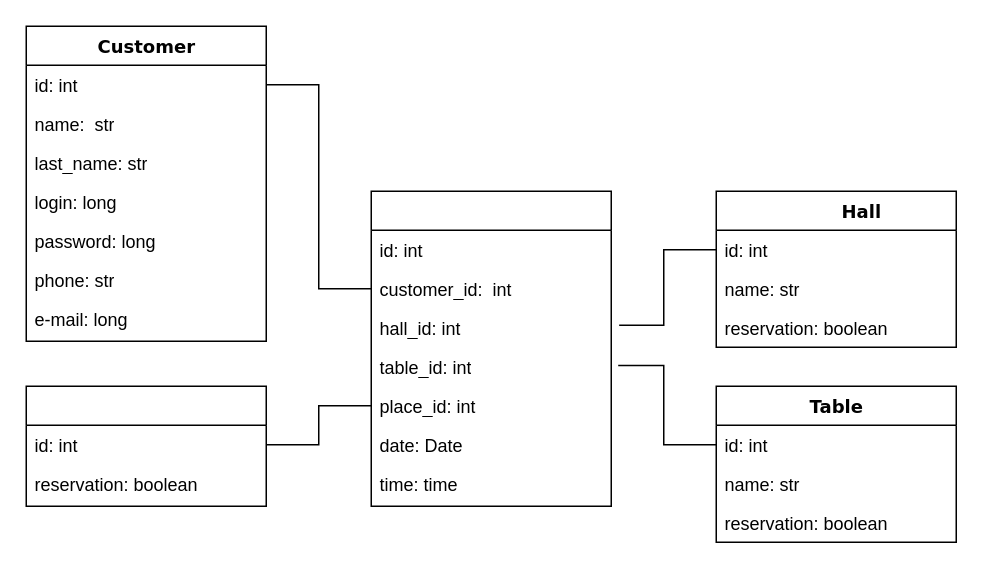
Image size: 983x573. Some labels were removed from this diagram. The shapes that lost their labels are listed below. From the top down, each one's box as (x1, y1, x2, y2) in pixels, then its label:
(370, 190, 611, 506): Order
(25, 385, 266, 506): Place
